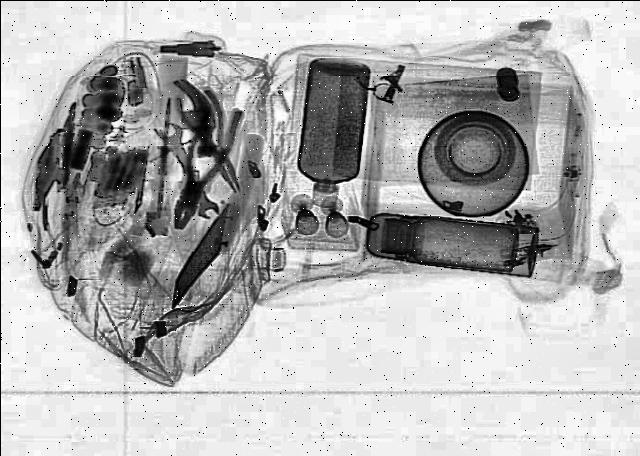Pliers: (158, 106, 245, 232), (170, 89, 258, 197)
Wrench: (156, 123, 224, 221)
